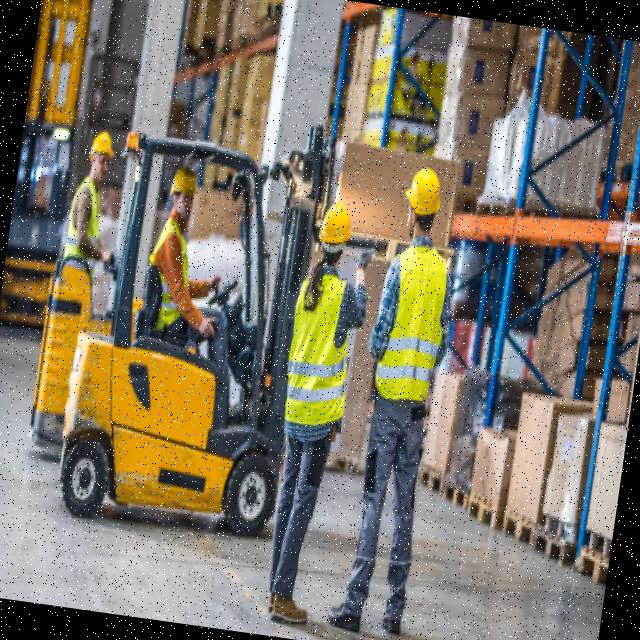Person: (328, 164, 472, 640), (252, 196, 380, 628), (59, 128, 130, 274)
